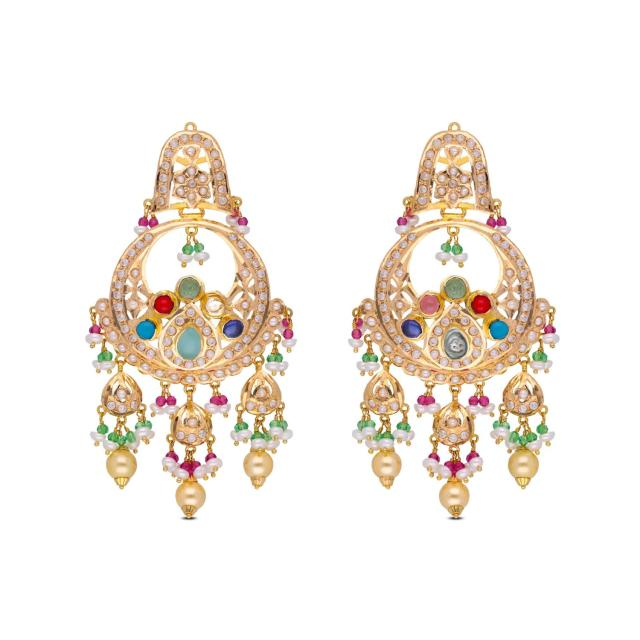missing gem: (444, 329, 468, 358), (204, 296, 224, 317)
